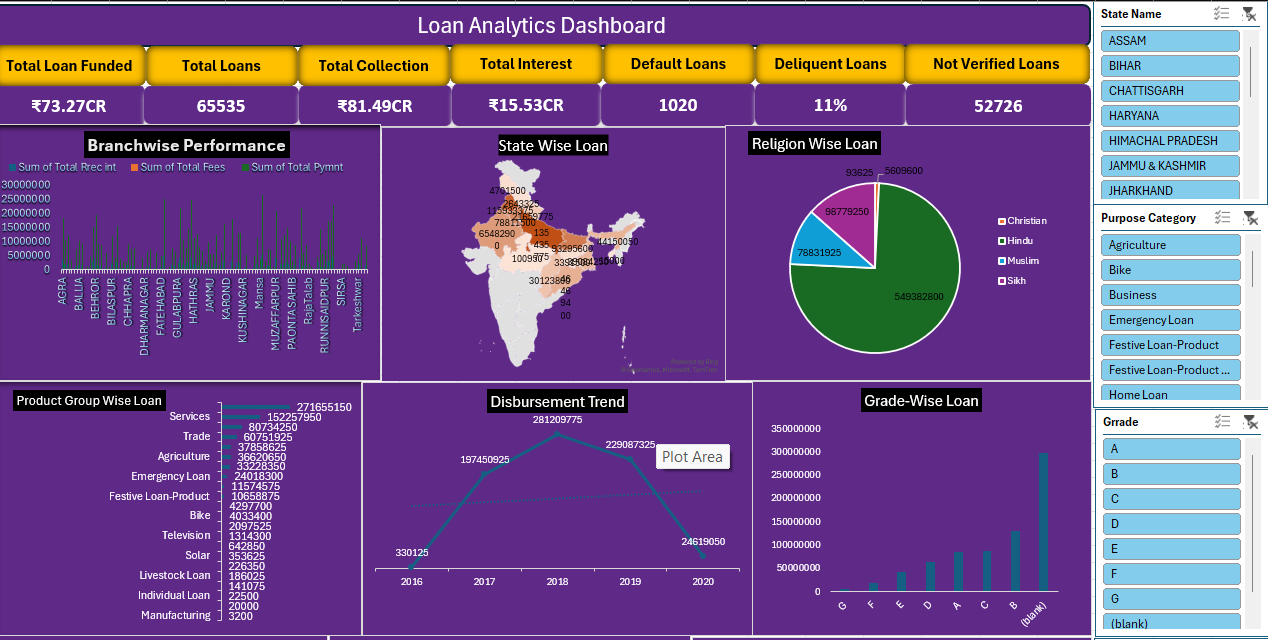

What the dashboard file says about the page in this screenshot:
{"tool":"powerbi","page":{"name":"Bank Loan Dashboard","canvas":[1000,1500],"ordinal":0},"visuals":[{"type":"shape","box":[0,0,1000.3,72.1],"z":0},{"type":"cardVisual","title":"Total Loans Amt ","fields":{"Data":["Loan_Data_Clean.Total Loan Funded"]},"box":[0,72.1,187.7,102.2],"z":1000},{"type":"cardVisual","fields":{"Data":["Loan_Data_Clean.Total Loans"]},"box":[187.7,72.1,199.4,102.2],"z":2000},{"type":"cardVisual","fields":{"Data":["Loan_Data_Clean.Total Collection"]},"box":[388.7,72.1,224.5,102.2],"z":3000},{"type":"cardVisual","fields":{"Data":["Loan_Data_Clean.Total Interest"]},"box":[593.2,72.1,204.4,102.2],"z":4000},{"type":"cardVisual","fields":{"Data":["Loan_Data_Clean.Total Revenue"]},"box":[785.9,72.1,214.5,102.2],"z":5000},{"type":"clusteredColumnChart","title":"Branchwise Performance","fields":{"Category":["Loan_Data_Clean.Branch Name"],"Y":["Loan_Data_Clean.Total Interest","Loan_Data_Clean.Total Fees","Loan_Data_Clean.Total Revenue"]},"box":[0,174.3,278.6,267.6],"z":6000},{"type":"donutChart","title":"Region Wise Loan","fields":{"Category":["Loan_Data_Clean.Religion"],"Y":["Loan_Data_Clean.Total Loans"]},"box":[572.2,174.3,306,267.6],"z":7000},{"type":"map","fields":{"Category":["Loan_Data_Clean.State Name"],"Size":["Loan_Data_Clean.Total Loan Funded"]},"box":[278.6,174.3,293.7,267.6],"z":8000},{"type":"clusteredBarChart","title":"Product Group Wise Loan","fields":{"Y":["Loan_Data_Clean.Total Loan Funded"],"Category":["Loan_Data_Clean.Product Code"]},"box":[0,441.9,278.6,278.6],"z":9000},{"type":"columnChart","title":"Grade Wise Loan","fields":{"Category":["Loan_Data_Clean.Grade"],"Y":["Loan_Data_Clean.Total Loan Funded"]},"box":[278.6,441.9,293.7,278.6],"z":10000},{"type":"lineChart","title":"Disburement Trend","fields":{"Y":["Loan_Data_Clean.Total Loan Funded"],"Category":["Loan_Data_Clean.Disbursement Date.Variation.Date Hierarchy.Year"]},"box":[571.4,442.4,429,278.2],"z":11000},{"type":"cardVisual","fields":{"Data":["Loan_Data_Clean.Default Loan Count"]},"box":[0,717.2,336.8,119],"z":12000},{"type":"cardVisual","fields":{"Data":["Loan_Data_Clean.Deliquent Client Count"]},"box":[336.8,720.5,328.4,119],"z":13000},{"type":"cardVisual","fields":{"Data":["Loan_Data_Clean.No Verified Loans"]},"box":[665.2,720.5,335.1,119],"z":14000},{"type":"columnChart","title":"Loan Status Wise Loan","fields":{"Category":["Loan_Data_Clean.Loan Status"],"Y":["Loan_Data_Clean.Total Loan Funded"]},"box":[2.5,1148.6,334.3,351.9],"z":15000},{"type":"barChart","title":"Age Group Wise Loan","fields":{"Y":["Loan_Data_Clean.Total Loan Funded"],"Category":["Loan_Data_Clean.Age "]},"box":[336.8,834.5,329.3,314.2],"z":16000},{"type":"gauge","fields":{"Y":["Loan_Data_Clean.Deliquent Loan Rate"]},"box":[336.8,1148.6,329.3,351.9],"z":17000},{"type":"columnChart","fields":{"Category":["Loan_Data_Clean.Loan Maturity"],"Y":["Loan_Data_Clean.Total Loans"]},"box":[666.1,1148.6,334.3,351.9],"z":18000},{"type":"donutChart","fields":{"Category":["Loan_Data_Clean.Deliquent Flag"],"Y":["CountNonNull(Loan_Data_Clean.Account ID)"]},"box":[0,834.5,336.8,314.2],"z":19000},{"type":"lineChart","fields":{"Y":["Loan_Data_Clean.Default Loan Count"],"Category":["Loan_Data_Clean.Disbursement Date.Variation.Date Hierarchy.Year"]},"box":[666.1,834.5,334.3,314.2],"z":20000},{"type":"slicer","fields":{"Values":["Loan_Data_Clean.Loan Status"]},"box":[875.1,174.3,124.9,274.4],"z":21000},{"type":"image","box":[72.9,7.5,65.3,55.3],"z":22000}]}

Visuals, with their boxes on the page's 1000x1500 design canvas (x1, y1, x2, y2). These are canvas units, not pixel positions in the 1268x640 screenshot, which may show the page scaled, cropped or inside an application window:
shape: 0:0:1000:72
"Total Loans Amt " cardVisual: 0:72:188:174
cardVisual - Loan_Data_Clean.Total Loans: 188:72:387:174
cardVisual - Loan_Data_Clean.Total Collection: 389:72:613:174
cardVisual - Loan_Data_Clean.Total Interest: 593:72:798:174
cardVisual - Loan_Data_Clean.Total Revenue: 786:72:1000:174
"Branchwise Performance" clusteredColumnChart: 0:174:279:442
"Region Wise Loan" donutChart: 572:174:878:442
map - Loan_Data_Clean.State Name x Loan_Data_Clean.Total Loan Funded: 279:174:572:442
"Product Group Wise Loan" clusteredBarChart: 0:442:279:720
"Grade Wise Loan" columnChart: 279:442:572:720
"Disburement Trend" lineChart: 571:442:1000:721
cardVisual - Loan_Data_Clean.Default Loan Count: 0:717:337:836
cardVisual - Loan_Data_Clean.Deliquent Client Count: 337:720:665:840
cardVisual - Loan_Data_Clean.No Verified Loans: 665:720:1000:840
"Loan Status Wise Loan" columnChart: 2:1149:337:1500
"Age Group Wise Loan" barChart: 337:834:666:1149
gauge - Loan_Data_Clean.Deliquent Loan Rate: 337:1149:666:1500
columnChart - Loan_Data_Clean.Loan Maturity x Loan_Data_Clean.Total Loans: 666:1149:1000:1500
donutChart - Loan_Data_Clean.Deliquent Flag x CountNonNull(Loan_Data_Clean.Account ID): 0:834:337:1149
lineChart - Loan_Data_Clean.Default Loan Count x Loan_Data_Clean.Disbursement Date.Variation.Date Hierarchy.Year: 666:834:1000:1149
slicer - Loan_Data_Clean.Loan Status: 875:174:1000:449
image: 73:8:138:63
